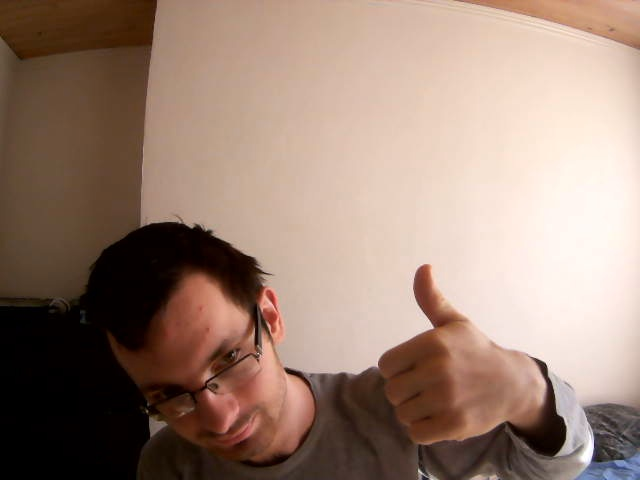nice: (376, 266, 508, 445)
